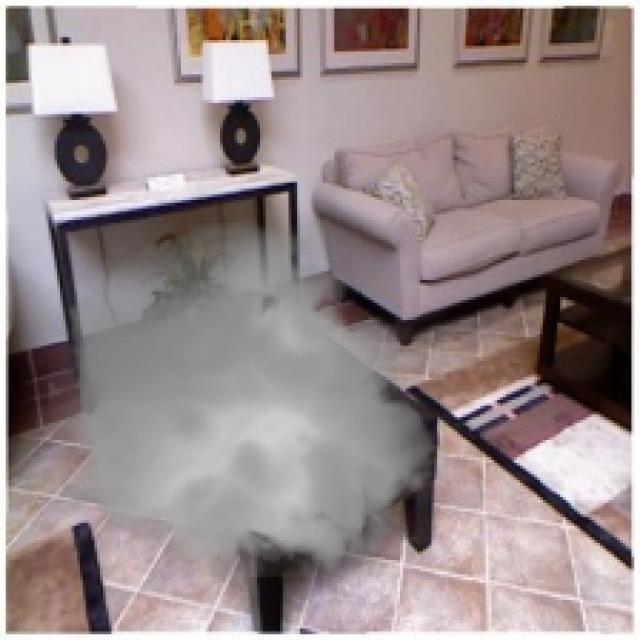Smoke: (49, 212, 448, 594)
